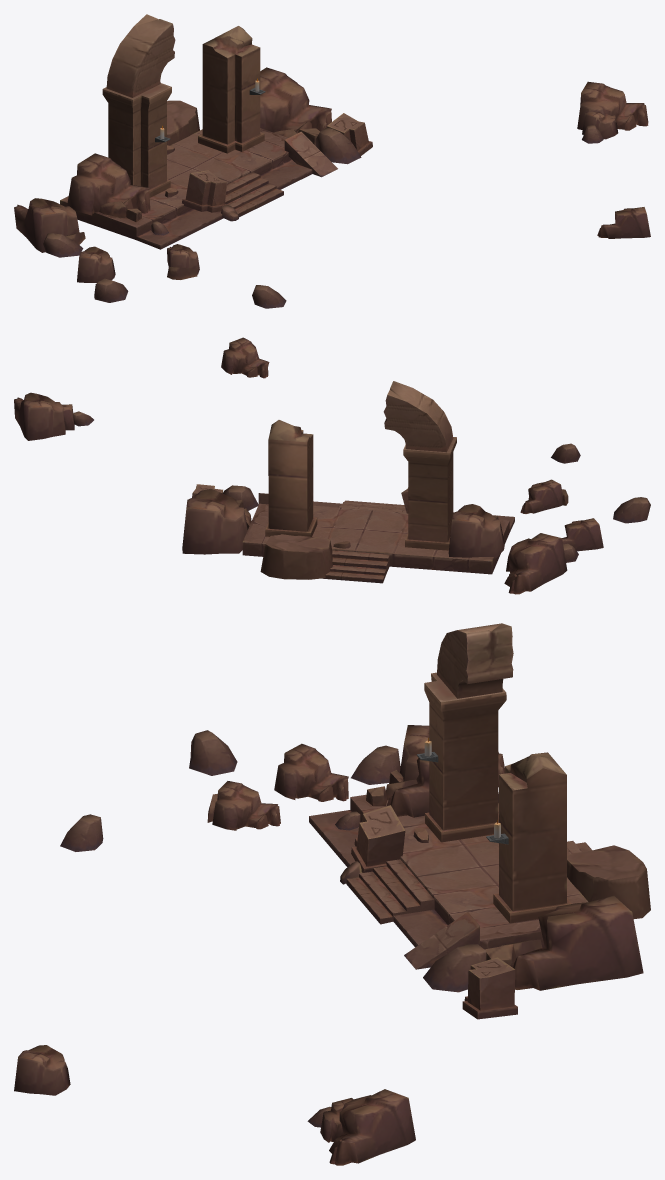
Rendered from area_07_poshuishimen.FBX.
3 views of the same model, one above another, from view 1: azimuth 30°, elevation 25°; view 2: azimuth 150°, elevation 25°; view 3: azimuth 270°, elevation 25° (orthographic). The views are drawn at different scales.
Parts seen in each view (by area): view 1: area_07_poshuishimen; view 2: area_07_poshuishimen; view 3: area_07_poshuishimen.
Boxes of the visible parts, x1=… form: area_07_poshuishimen: x1=14, y1=14, x2=650, y2=308; area_07_poshuishimen: x1=14, y1=337, x2=650, y2=594; area_07_poshuishimen: x1=14, y1=623, x2=650, y2=1165.
Bounding box in the file's own units: 3468 × 1003 × 2280.
